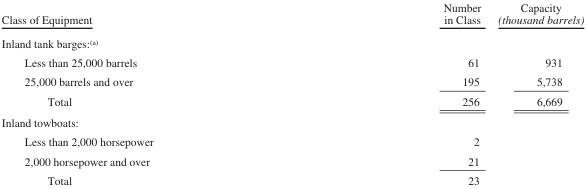table: (0, 1, 583, 186)
table column: (0, 1, 297, 186), (297, 1, 488, 186), (488, 1, 583, 186)
table column header: (0, 1, 583, 31)
table projected row header: (0, 31, 583, 52), (0, 111, 583, 131)
table row: (0, 1, 583, 31), (0, 31, 583, 52), (0, 71, 583, 91), (0, 91, 583, 111), (0, 111, 583, 131), (0, 131, 583, 151), (0, 52, 583, 71), (0, 151, 583, 170), (0, 170, 583, 186)
